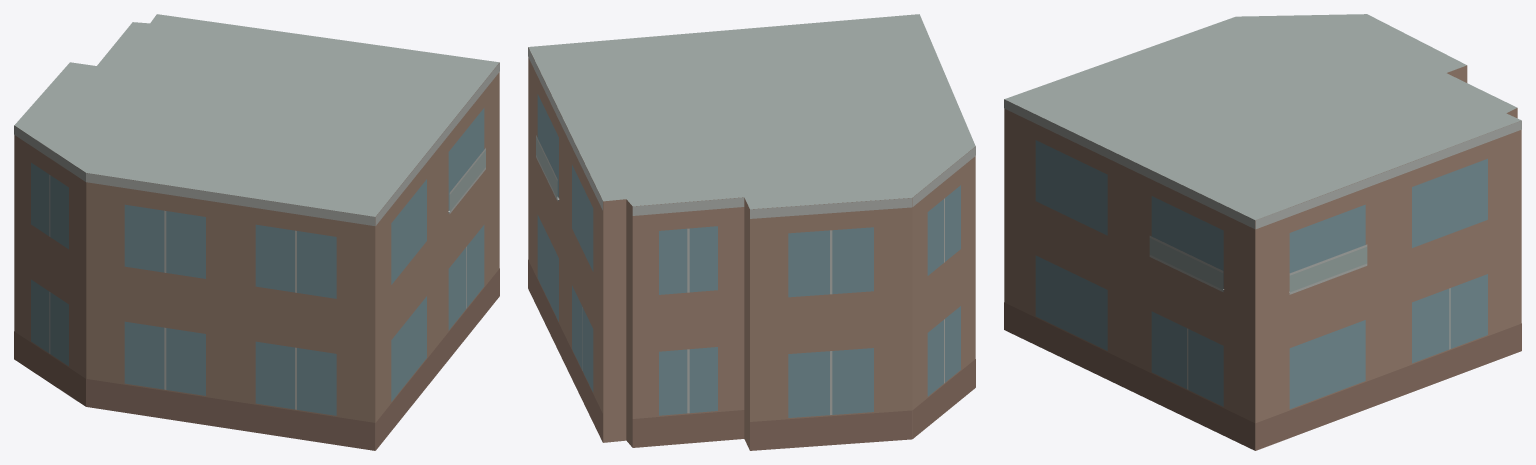
The model's file is survey-upis-32908513.glb.
3 views of the same model, side by side, from view 1: azimuth 30°, elevation 25°; view 2: azimuth 150°, elevation 25°; view 3: azimuth 270°, elevation 25° (orthographic). The views are drawn at different scales.
Visible parts, largest first — view 1: survey-upis-32908513.tmp; view 2: survey-upis-32908513.tmp; view 3: survey-upis-32908513.tmp.
Boxes of the visible parts, bbox=[...] form: survey-upis-32908513.tmp: bbox=[14, 14, 499, 450]; survey-upis-32908513.tmp: bbox=[528, 14, 975, 450]; survey-upis-32908513.tmp: bbox=[1004, 14, 1521, 450].
Size of the model in its own units: 11.71 by 6.1 by 12.42.
